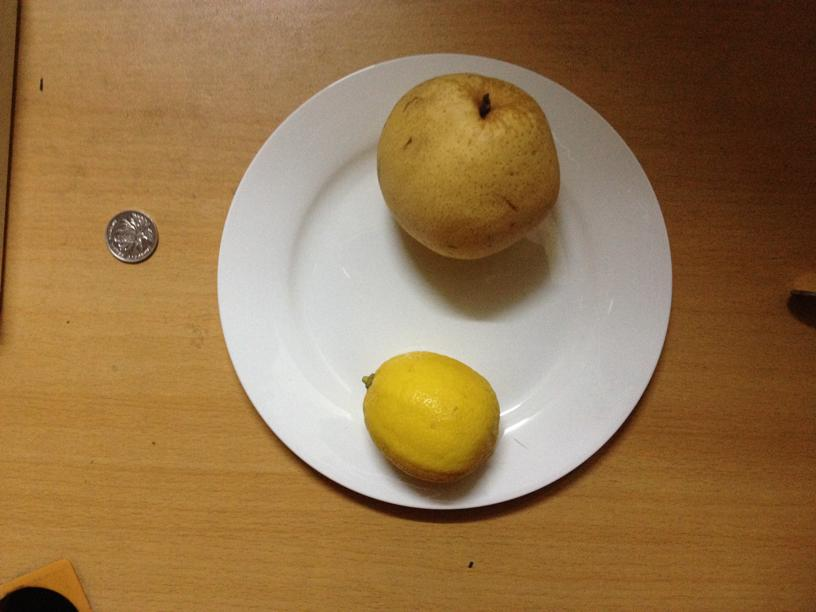coin: (103, 209, 158, 262)
lemon: (363, 352, 500, 483)
pear: (372, 74, 562, 265)
